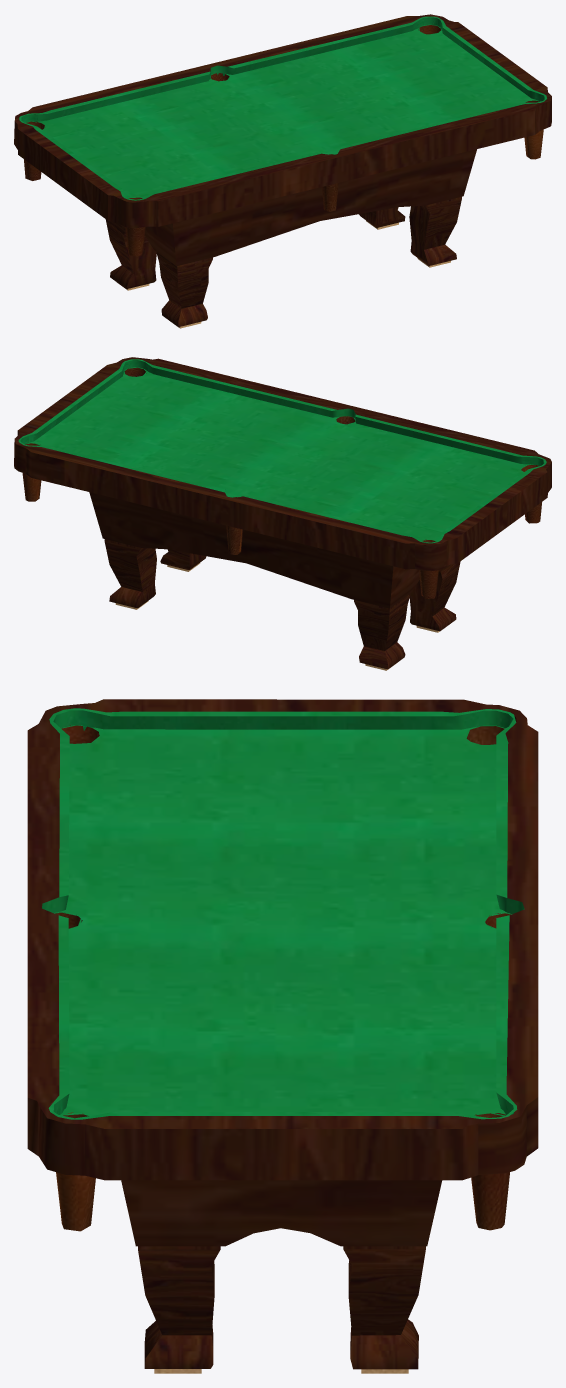
File: pool-table.low.glb
3 renders of one model, top to bottom at view 1: azimuth 30°, elevation 25°; view 2: azimuth 150°, elevation 25°; view 3: azimuth 270°, elevation 25°, orthographic. The views are drawn at different scales.
Visible parts, largest first — view 1: group4_pasted__group_pasted__pasted__pCube15_aiStandardSurfa (×3); view 2: group4_pasted__group_pasted__pasted__pCube15_aiStandardSurfa (×3); view 3: group4_pasted__group_pasted__pasted__pCube15_aiStandardSurfa (×3).
Part boxes in pixels (x1,y1,x2,y2): group4_pasted__group_pasted__pasted__pCube15_aiStandardSurfa (×3): (14, 14, 551, 327); group4_pasted__group_pasted__pasted__pCube15_aiStandardSurfa (×3): (14, 357, 551, 669); group4_pasted__group_pasted__pasted__pCube15_aiStandardSurfa (×3): (27, 699, 538, 1369).
Size of the model in its own units: 2.54 by 0.9019 by 1.28.
4 materials, 4 textured.
